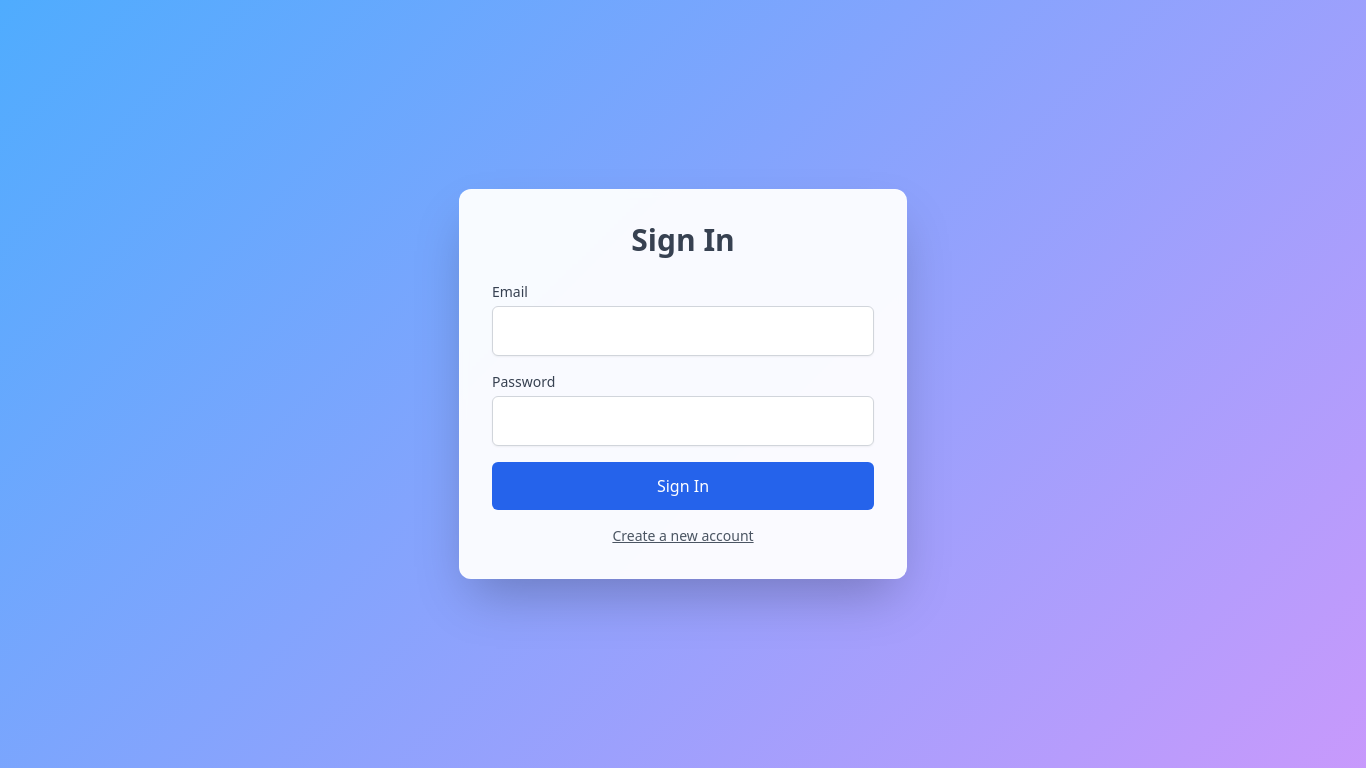
Test case: TC-A005 REFACTOR: Login with wrong password shows "Invalid credentials" error
# Correct email, wrong password
Step 1. Type "user@example.com" into the field labelled "Email" → (683, 331), box [492,306,874,356]
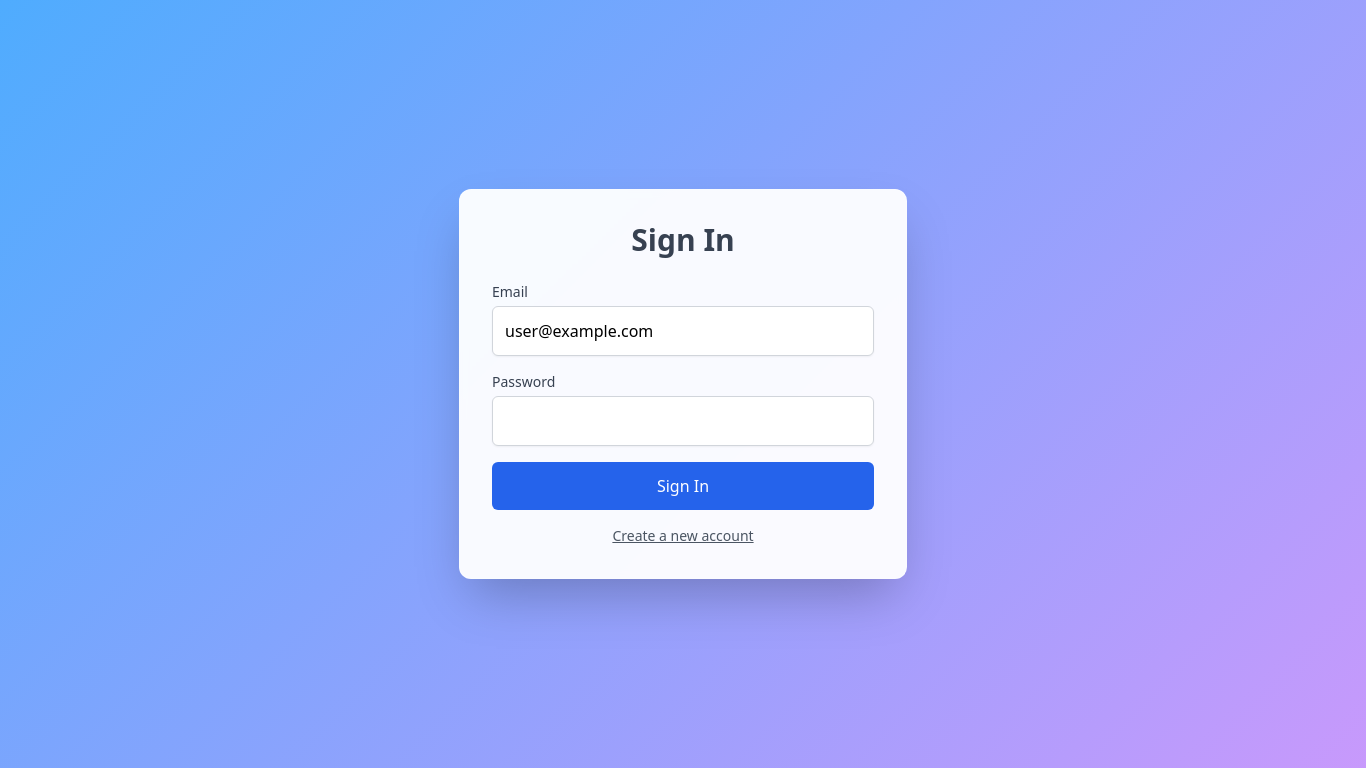
Step 2. Type "wrong-password" into the password field labelled "Password" → (683, 421), box [492,396,874,446]
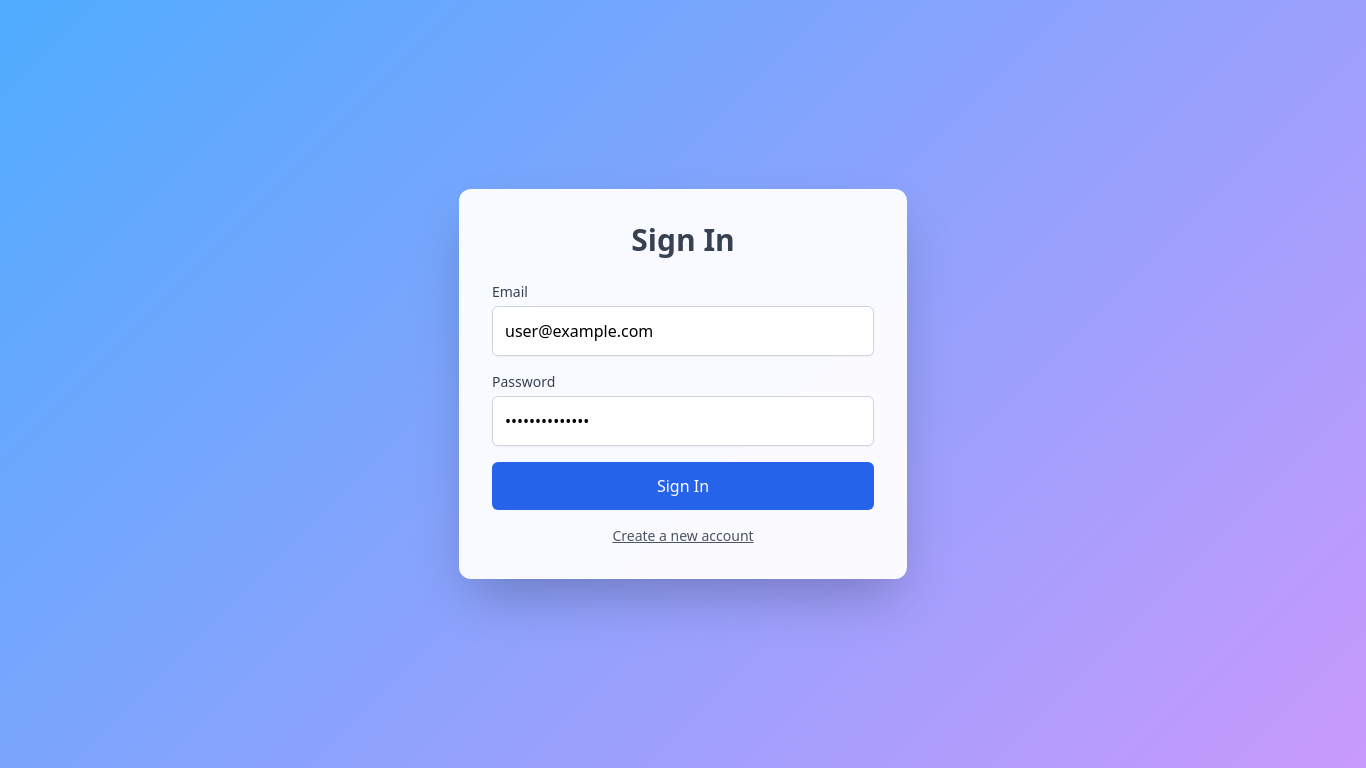
Step 3. Click the button "Sign In" → (683, 486), box [492,462,874,510]
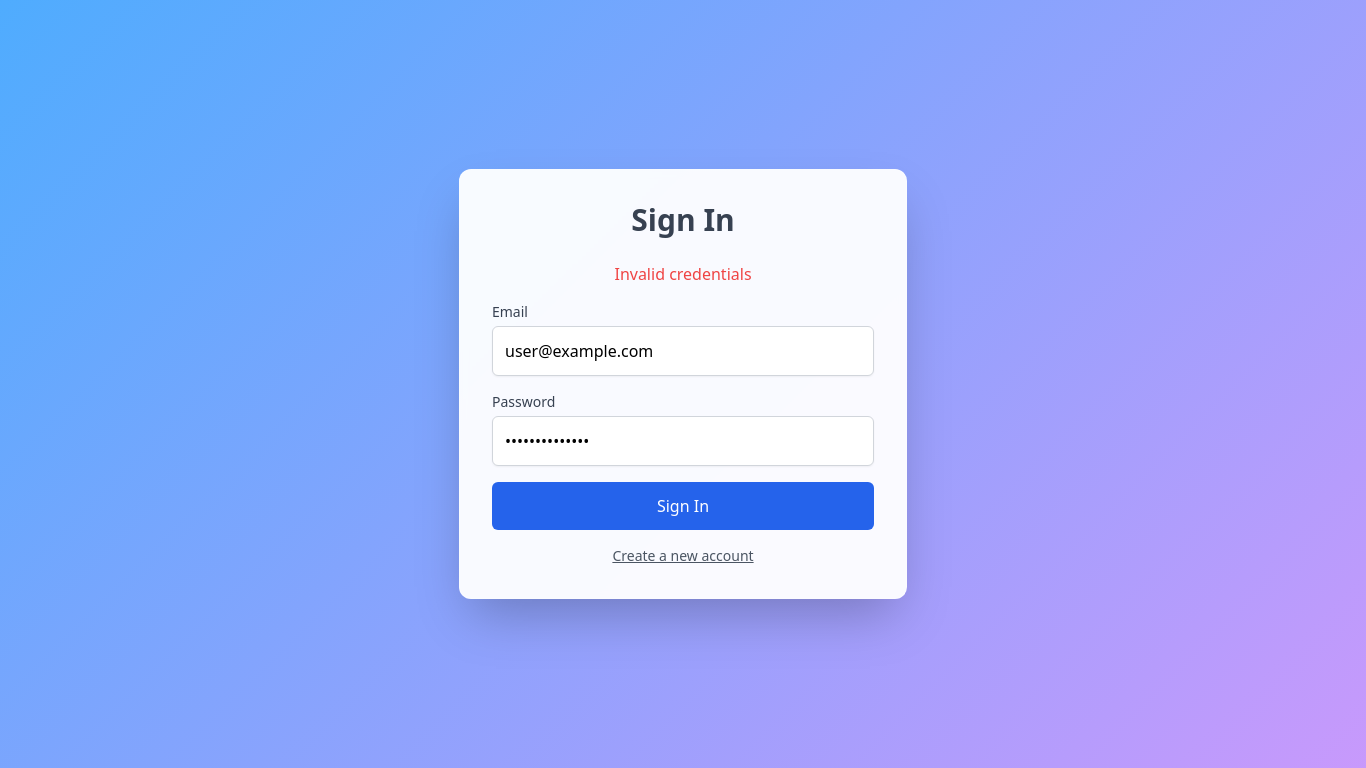
Expected: the button "Sign In" is shown, [492,482,874,530]
Expected: the text "Invalid credentials" is shown, [614,263,752,285]
